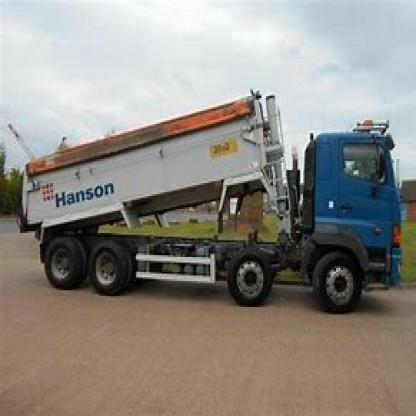dump_truck: (14, 89, 415, 325)
